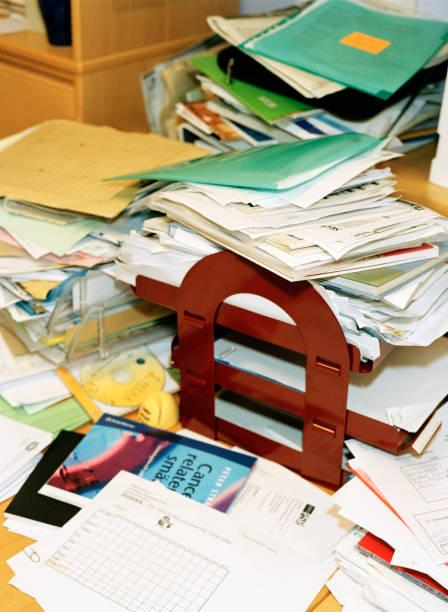paper: (11, 468, 311, 612), (38, 410, 256, 548), (152, 187, 446, 281), (0, 220, 171, 358), (234, 0, 448, 104), (327, 430, 448, 612), (0, 119, 215, 221), (112, 126, 397, 197)
